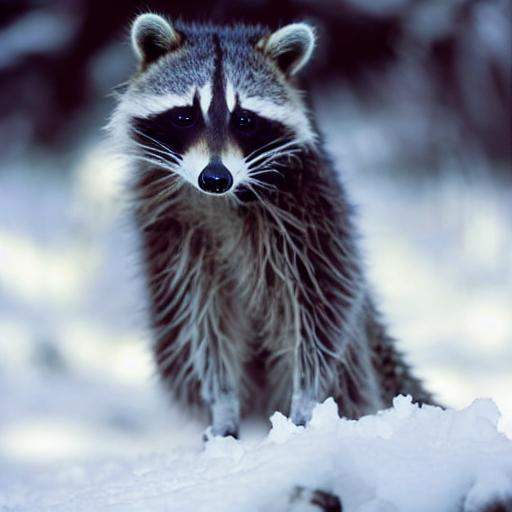raccoon: (92, 6, 448, 411)
